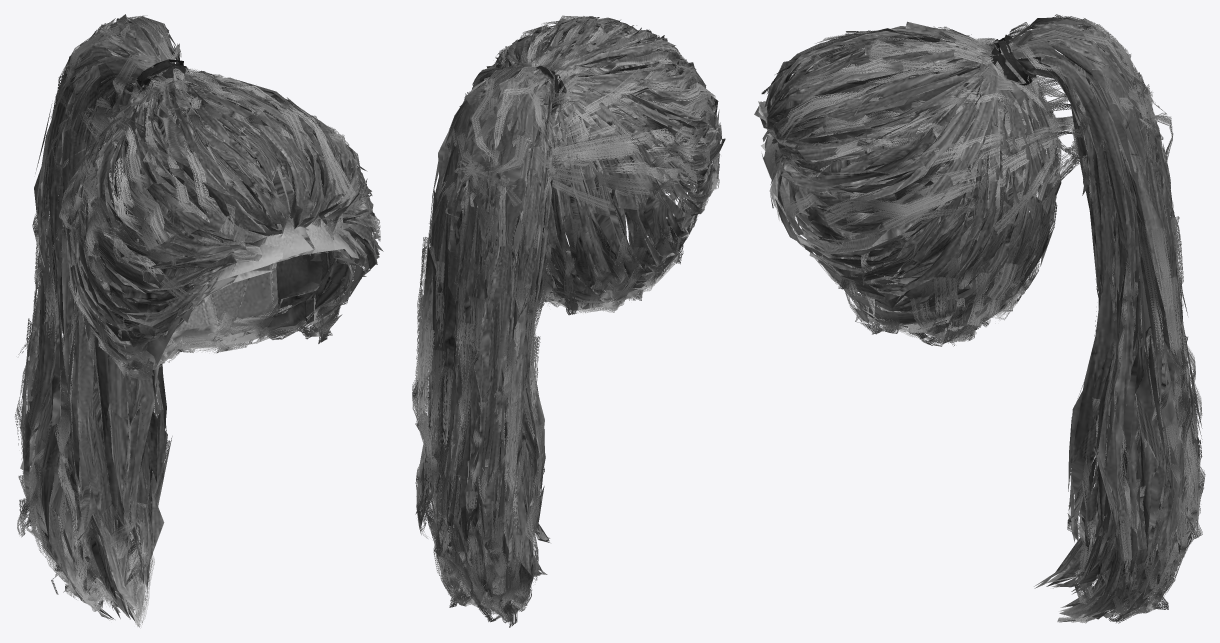
The model's file is hair_ponytail.glb.
3 renders of one model, left to right at view 1: azimuth 30°, elevation 25°; view 2: azimuth 150°, elevation 25°; view 3: azimuth 270°, elevation 25°, orthographic. The views are drawn at different scales.
Visible parts, largest first — view 1: Mesh_0, haircards; view 2: Mesh_0, haircards; view 3: Mesh_0, haircards.
Boxes of the visible parts, box(x1,y1,x2,y2) form: Mesh_0: box(20, 14, 383, 627); haircards: box(15, 15, 380, 627); Mesh_0: box(415, 16, 725, 614); haircards: box(412, 15, 721, 627); Mesh_0: box(754, 15, 1202, 622); haircards: box(761, 14, 1205, 623).
Bounding box in the file's own units: 0.2007 × 0.451 × 0.3048.
Materials: 2 (2 with a texture image).
